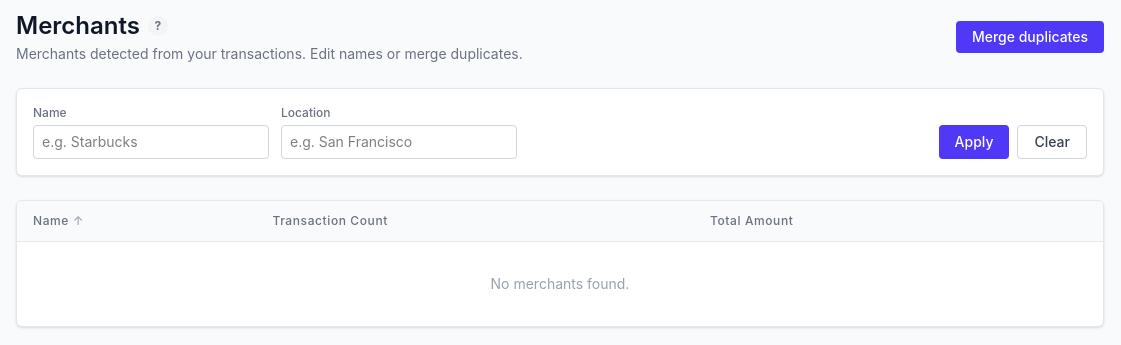
Test: MerchantsPage › clears filter inputs when Clear is clicked
The image size is (1121, 345).
Type "star" into the field with placeholder "e.g. Starbucks".
click(151, 142); type("star")  # box [33,125,269,159]
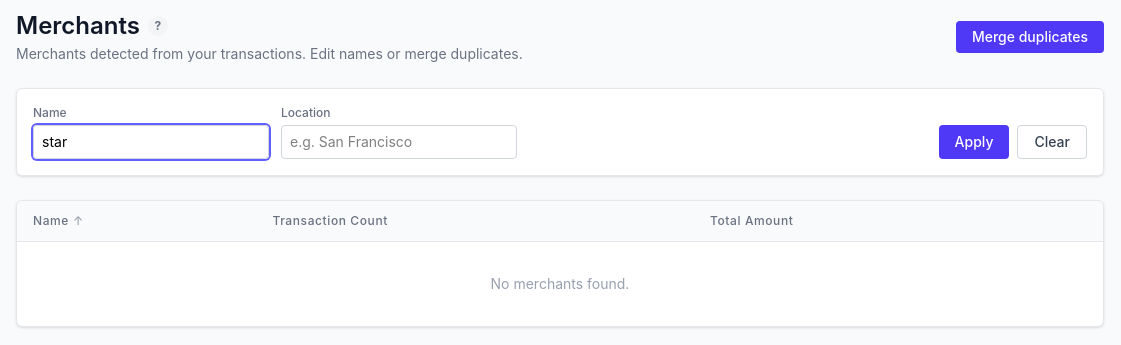
Click the button "Clear".
click(1052, 142)  # box [1018,125,1087,159]
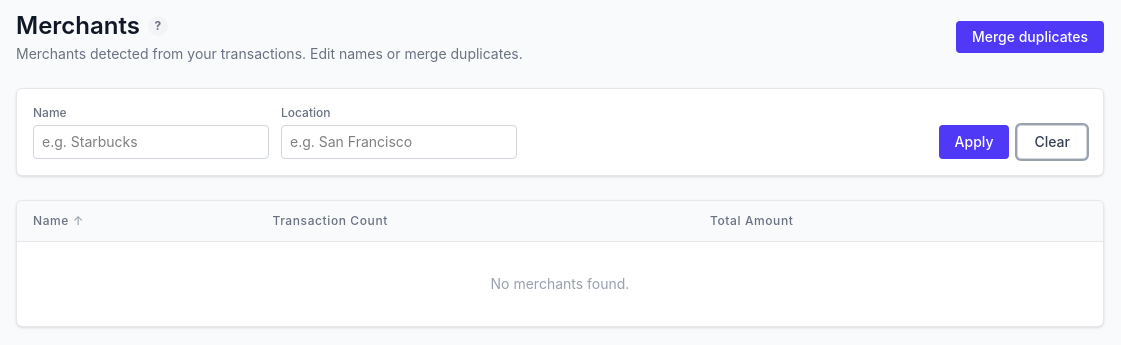
Expected: the field with placeholder "e.g. Starbucks" is empty, [33,125,269,159]
